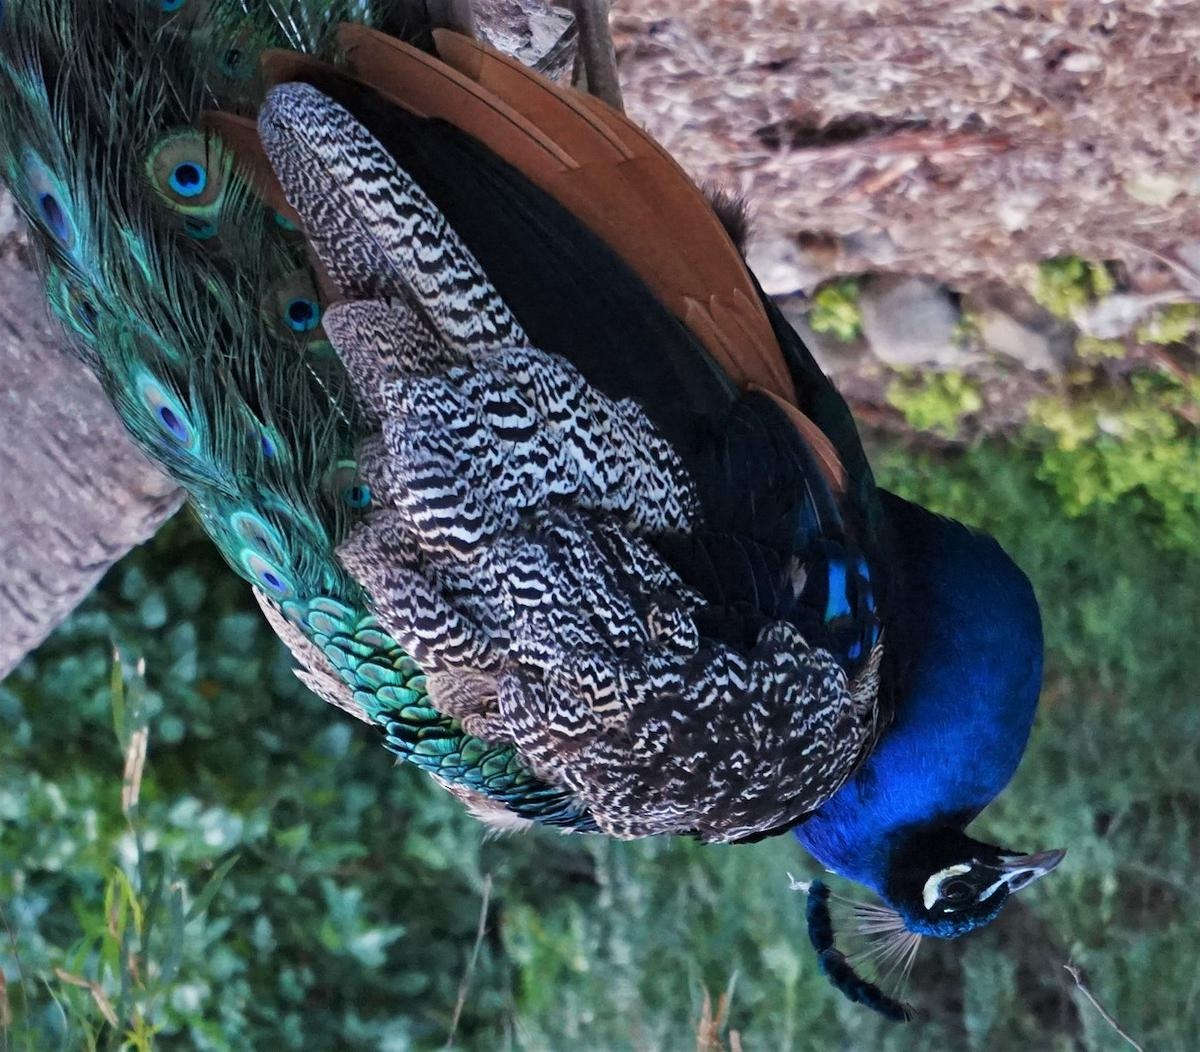peacock: (55, 68, 1197, 991)
